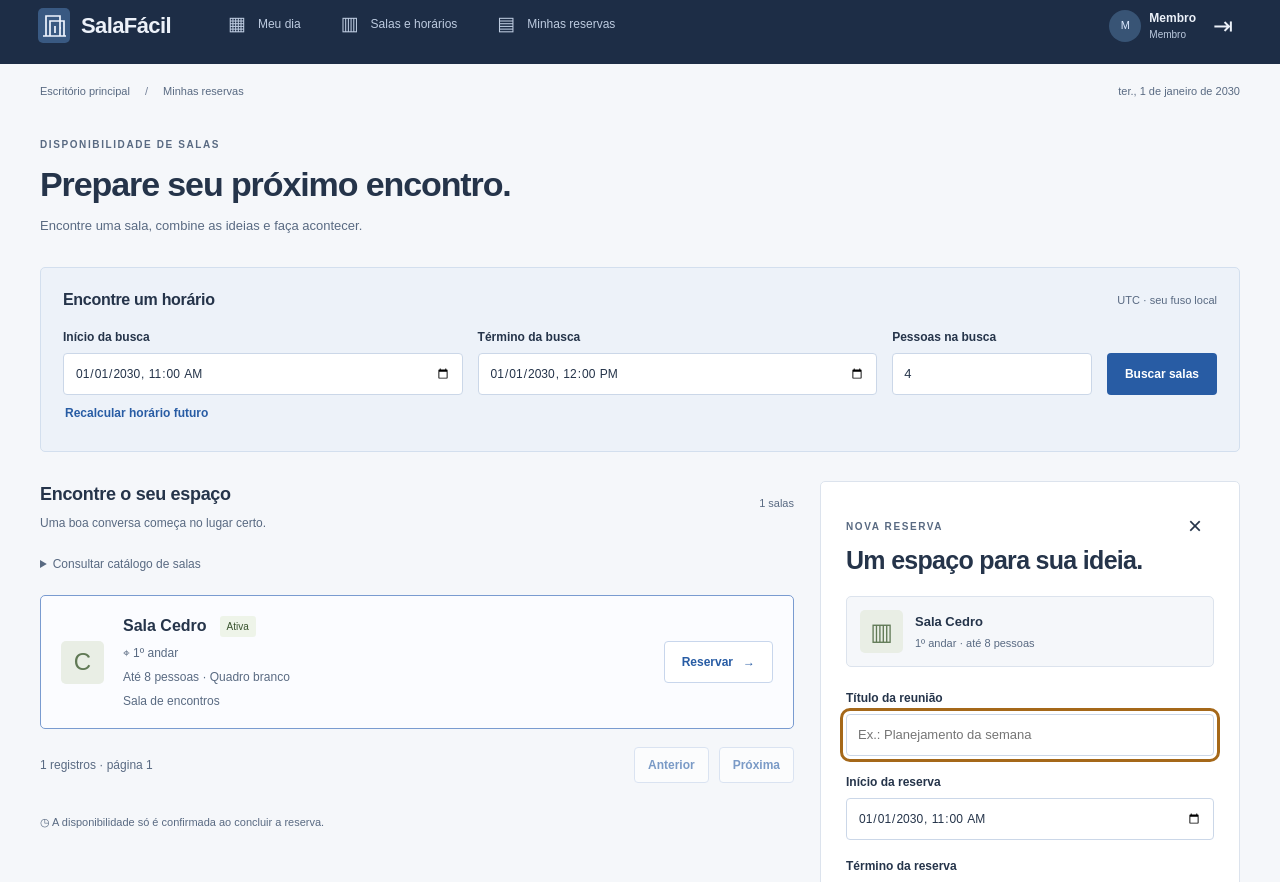
Test case: O4-C reservation intention and session identity › blocks writes while identity is unavailable and lets the same owner recover without losing fields
The width and height of the screenshot is (1280, 882).
Step 1. Type "Rascunho seguro" into the field labelled "Título da reunião" → (1030, 735), box [846,714,1214,756]
(page scrolled)
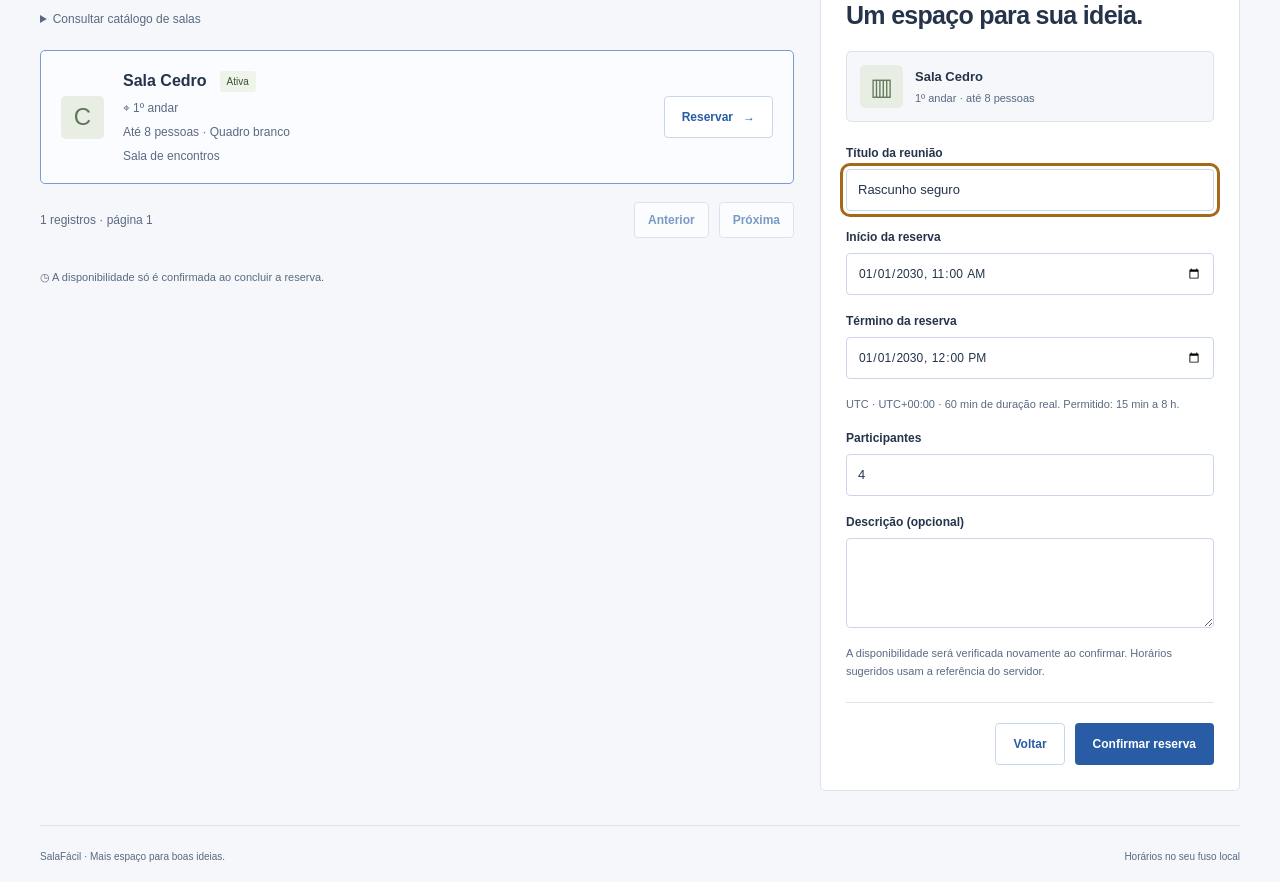
Step 2. Click the button "Confirmar reserva" → click(1144, 744), box [1075,723,1214,765]
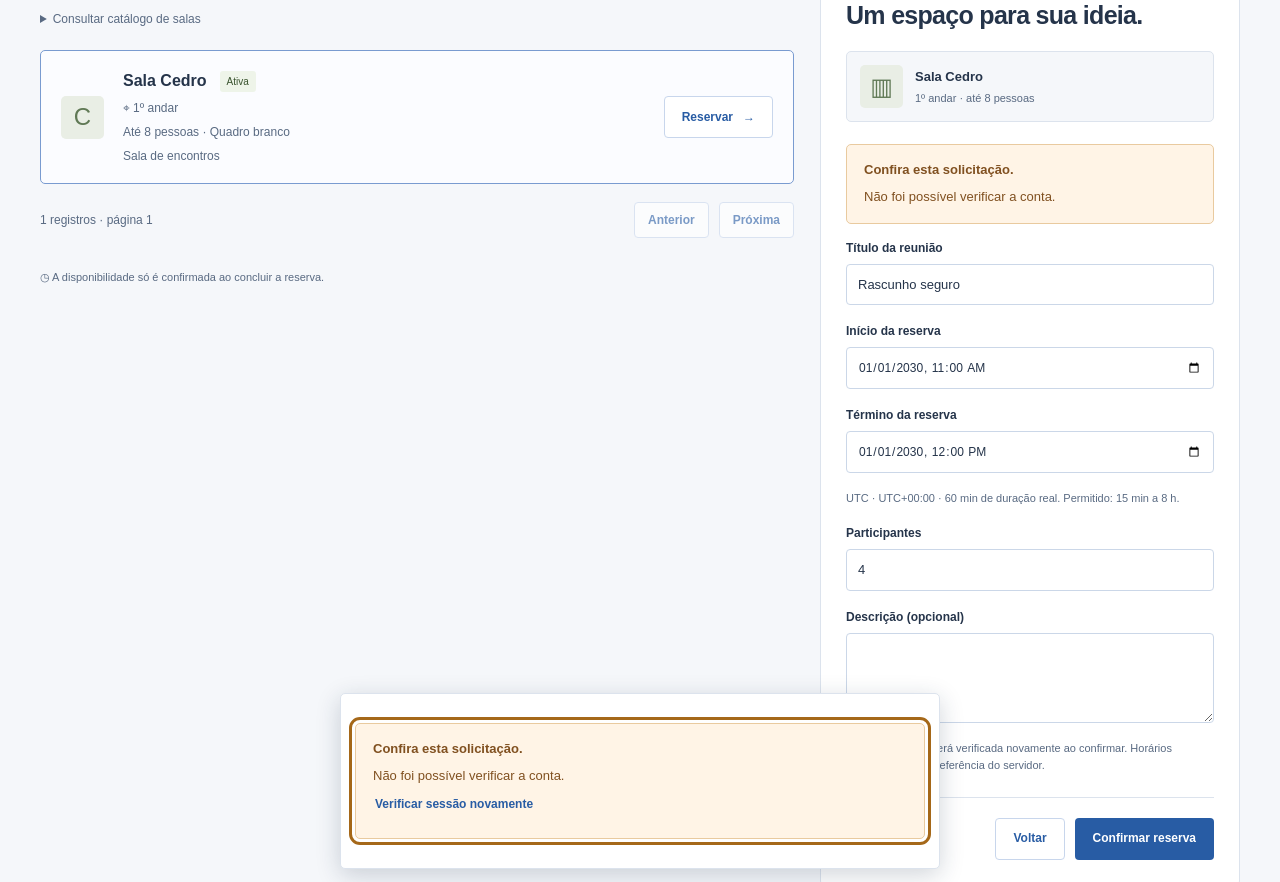
Now the button "Verificar sessão novamente" is shown
Step 3. Click the button "Verificar sessão novamente" → click(454, 805), box [373,787,535,823]
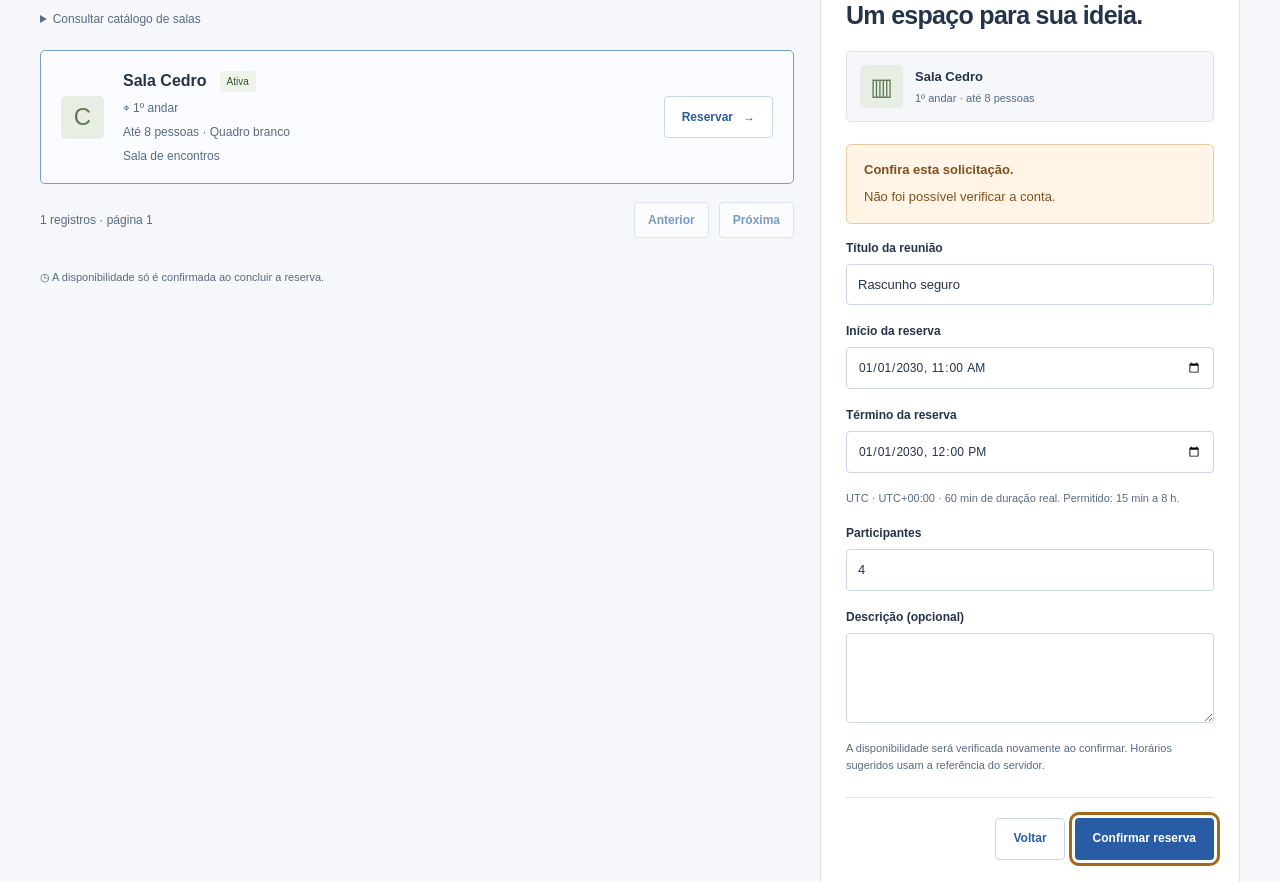
Step 4. Click the button "Confirmar reserva" → click(1144, 839), box [1075,818,1214,860]
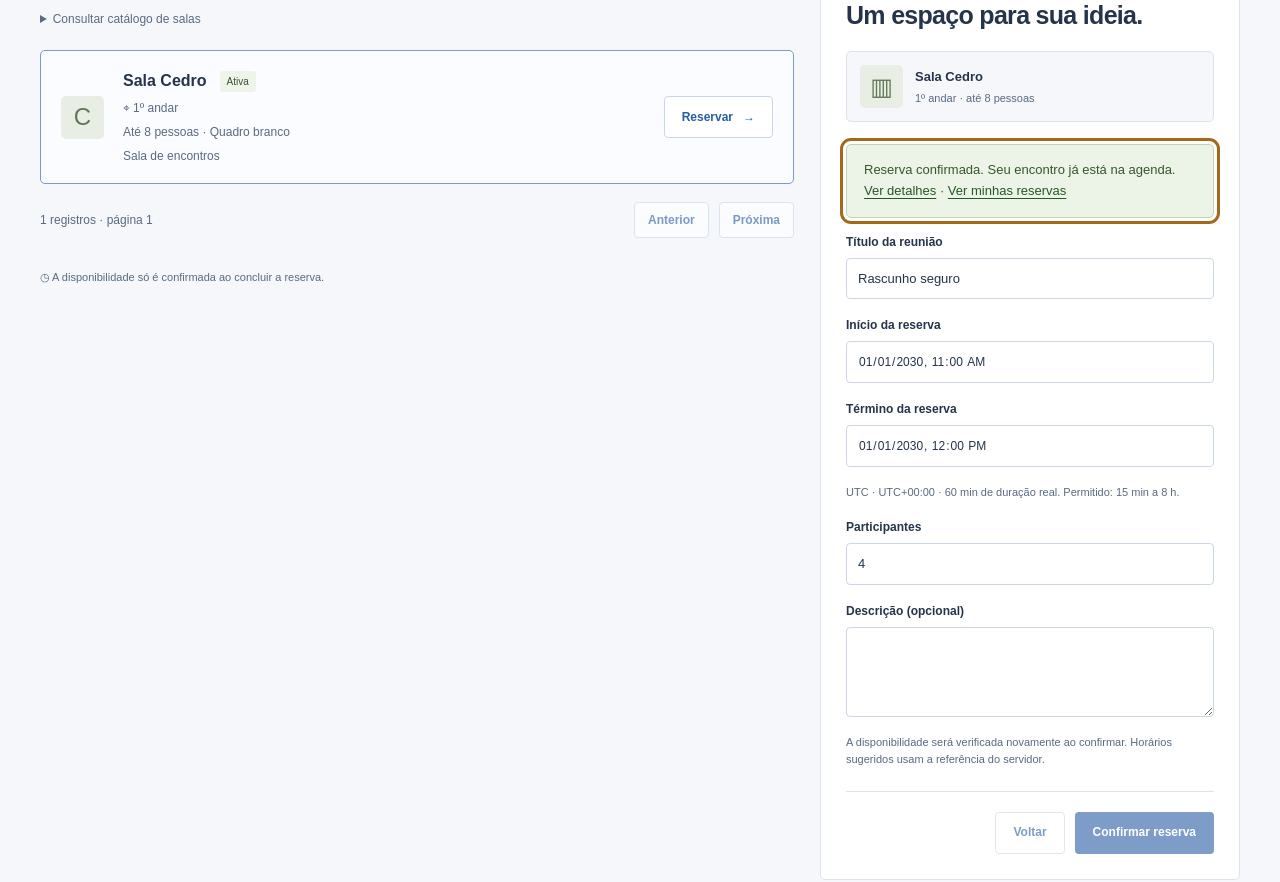
Now the element named "Confirmação" is shown, box [846,144,1214,218]
